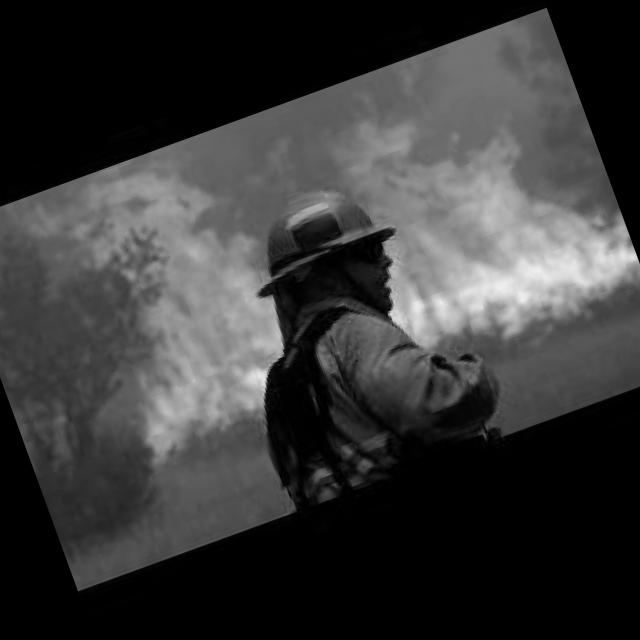fire: (20, 16, 640, 489)
